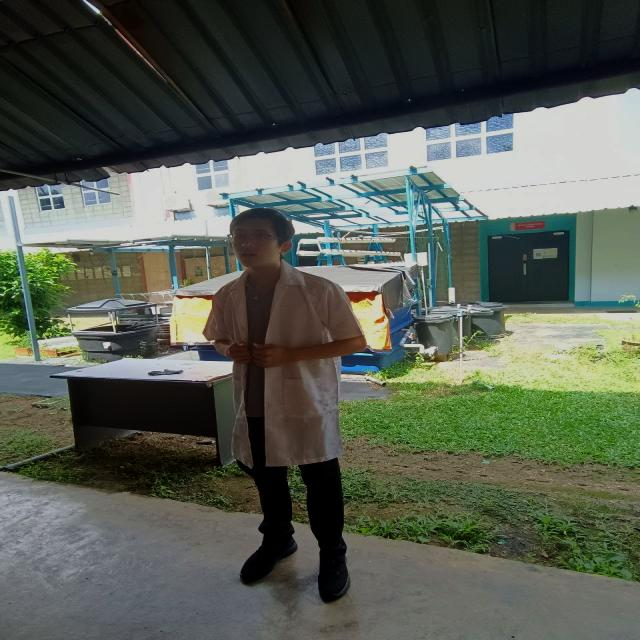person_with_labcoat: (204, 208, 366, 600)
